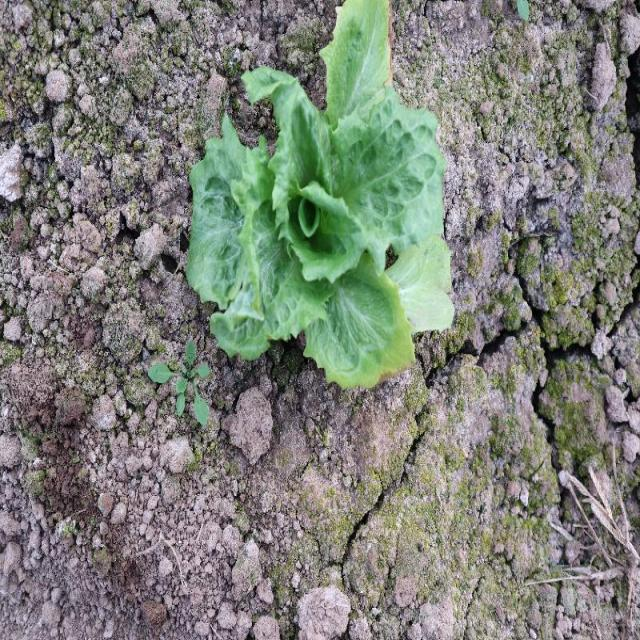crop: (187, 0, 453, 394)
